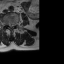CCS_stenosis: (10, 22, 11, 30)
LFS_normal: (13, 22, 15, 27)
LLS_normal: (11, 22, 13, 29)
RFS_stenosis: (6, 21, 8, 27)
RLS_normal: (8, 22, 10, 28)
